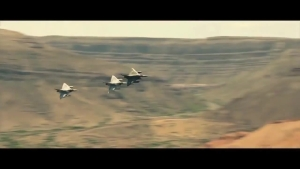flight: (119, 66, 149, 86), (54, 81, 78, 100), (105, 74, 127, 94)
